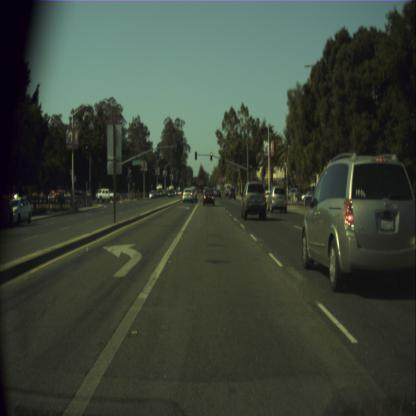Red: (262, 164, 265, 176), (222, 156, 224, 165), (210, 152, 212, 160)
off: (194, 150, 196, 160), (248, 173, 249, 180)
